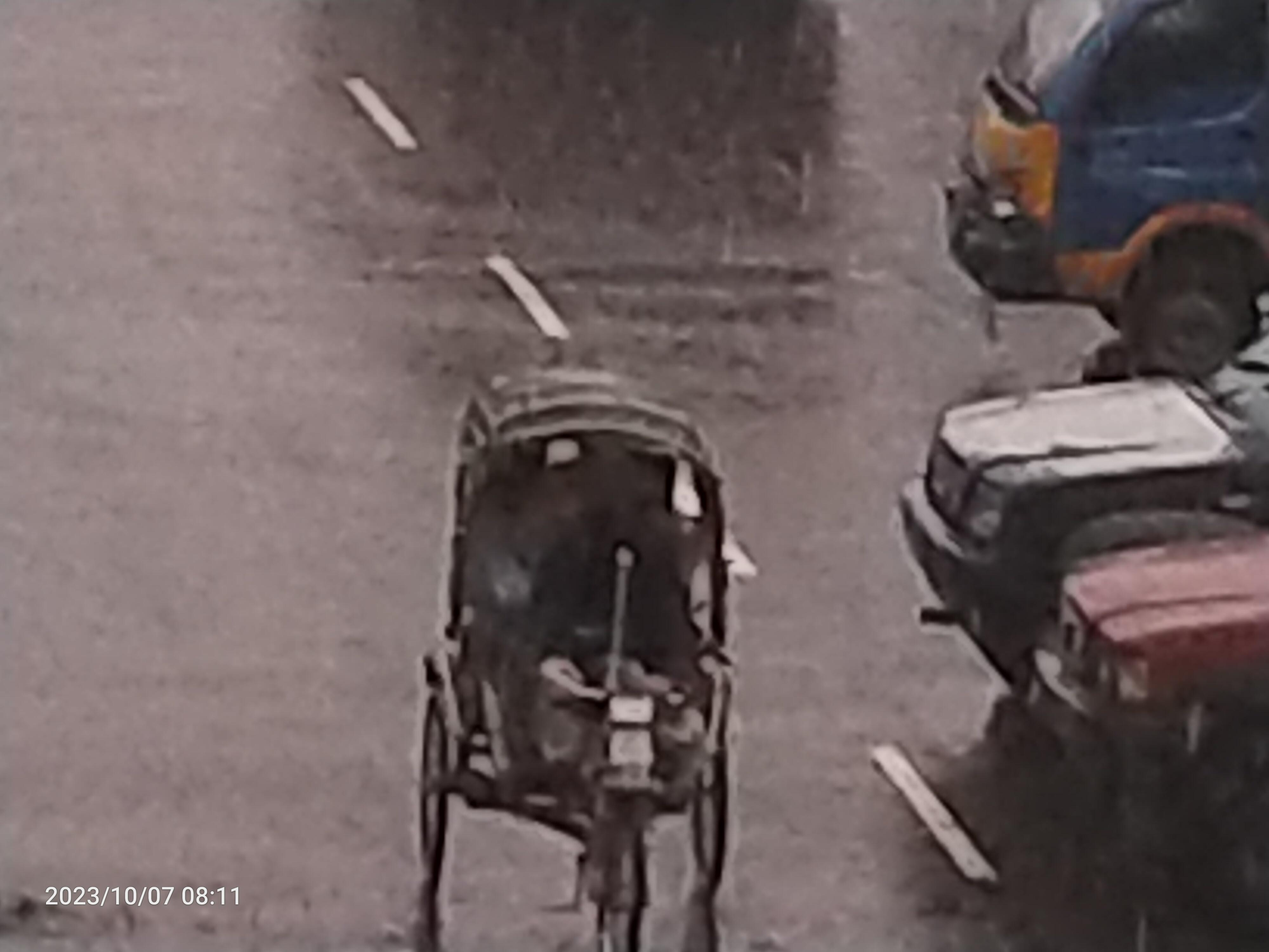Car: (346, 320, 849, 952)
Truck: (888, 278, 1269, 677), (888, 4, 1269, 349), (1036, 513, 1269, 840)
